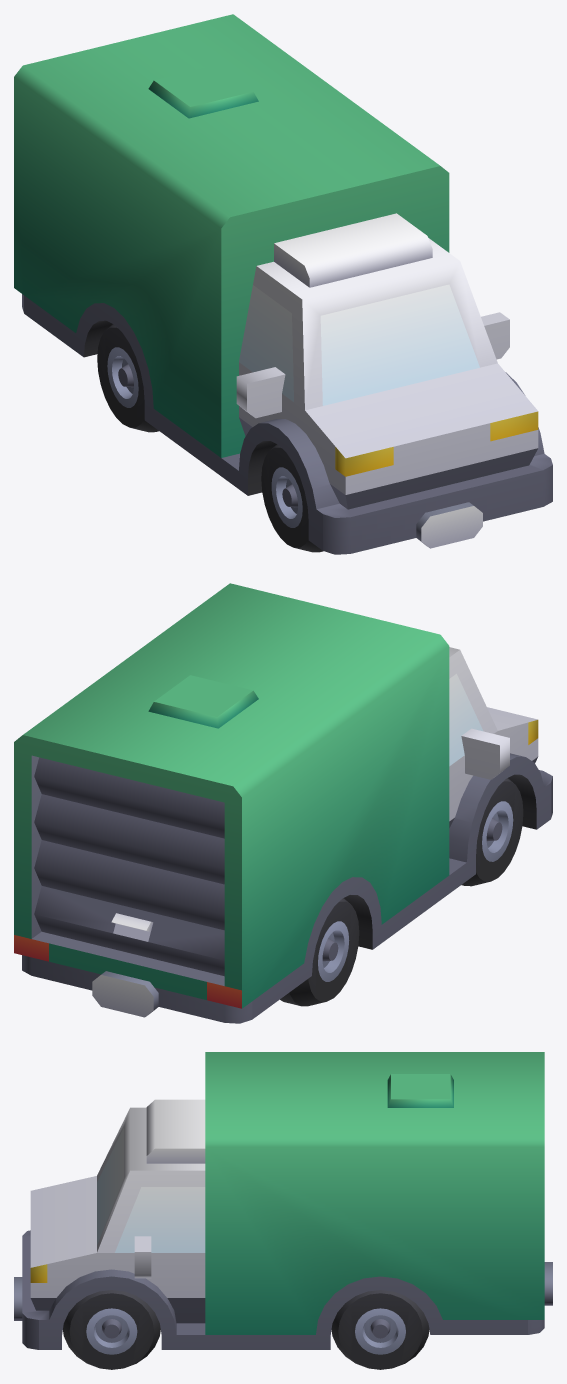
Rendered from van-delivery.glb.
3 renders of one model, top to bottom at view 1: azimuth 30°, elevation 25°; view 2: azimuth 150°, elevation 25°; view 3: azimuth 270°, elevation 25°, orthographic. The views are drawn at different scales.
Visible parts, largest first — view 1: body, wheel-front-right, wheel-back-right; view 2: body, door, wheel-back-right, wheel-front-right; view 3: body, wheel-back-left, wheel-front-left.
Part boxes in pixels (bbox=[...]): body: bbox=[14, 14, 552, 554]; wheel-front-right: bbox=[261, 444, 323, 552]; wheel-back-right: bbox=[97, 324, 158, 432]; body: bbox=[14, 583, 552, 1023]; door: bbox=[34, 757, 224, 976]; wheel-back-right: bbox=[280, 898, 359, 1006]; wheel-front-right: bbox=[461, 778, 523, 886]; body: bbox=[14, 1052, 552, 1349]; wheel-back-left: bbox=[331, 1290, 429, 1369]; wheel-front-left: bbox=[63, 1290, 160, 1369].
Size of the model in its own units: 1.5 by 1.65 by 3.25.
Materials: 1 (1 with a texture image).
